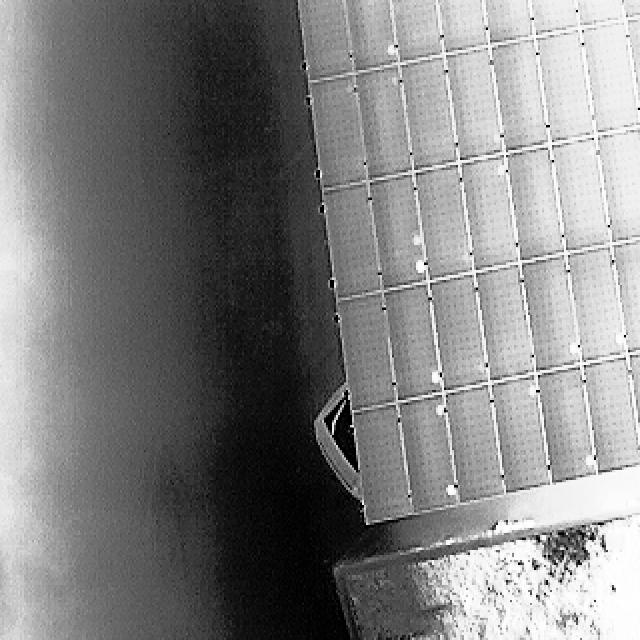Hotspots: (408, 233, 424, 251), (446, 480, 459, 499), (387, 42, 401, 57), (495, 163, 508, 179), (430, 369, 443, 384), (588, 142, 600, 158), (613, 331, 625, 346), (436, 402, 448, 416), (417, 256, 426, 274), (569, 341, 579, 357), (492, 132, 504, 145), (528, 384, 538, 398), (584, 454, 594, 468)
PV-modules: (334, 291, 399, 413), (429, 275, 493, 396), (443, 384, 508, 503), (351, 402, 414, 523), (411, 164, 475, 282), (382, 285, 445, 404), (519, 253, 582, 371), (548, 138, 612, 254), (536, 366, 598, 484), (396, 394, 458, 512), (322, 180, 384, 298), (473, 264, 536, 380), (505, 148, 568, 263), (396, 57, 459, 171), (534, 29, 597, 143), (371, 173, 432, 290), (492, 378, 554, 493), (309, 75, 371, 190), (564, 248, 625, 364), (491, 39, 553, 153), (458, 158, 520, 272), (582, 355, 640, 475), (352, 66, 412, 182), (445, 46, 506, 160), (580, 20, 640, 135), (596, 127, 640, 245), (296, 0, 356, 78), (340, 0, 396, 71), (610, 235, 640, 353), (390, 0, 445, 63), (436, 0, 492, 50), (478, 0, 533, 44), (620, 13, 640, 125), (524, 0, 581, 36), (624, 347, 640, 465), (573, 0, 628, 28), (618, 0, 640, 22)
